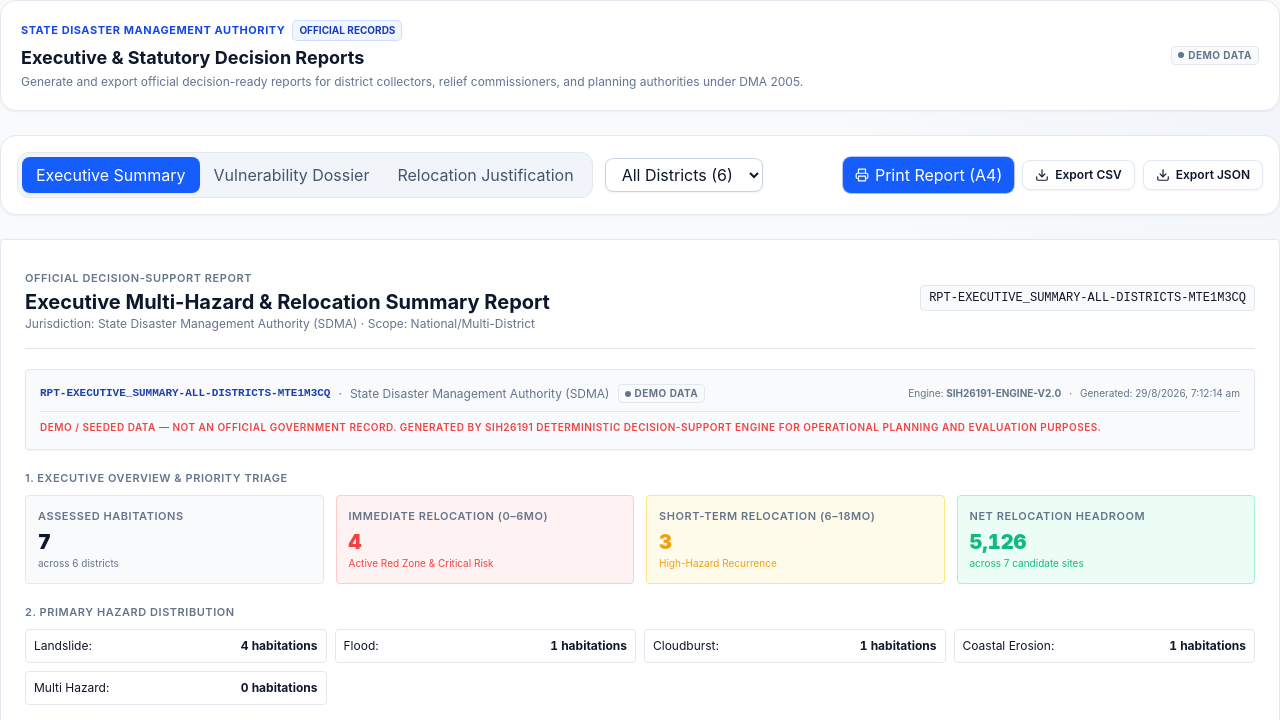
Test case: Reports UI Components (Phase 7) › renders ReportsWorkspace and coordinates report type switching
Expected: the button "Print Report (A4)" is shown, 843,157 -> 1014,193
Expected: the link "Export CSV" is shown, 1022,160 -> 1135,190
// Switch to Vulnerability Dossier
Click the button "Vulnerability Dossier" at (291, 175), box 200,157 -> 383,193
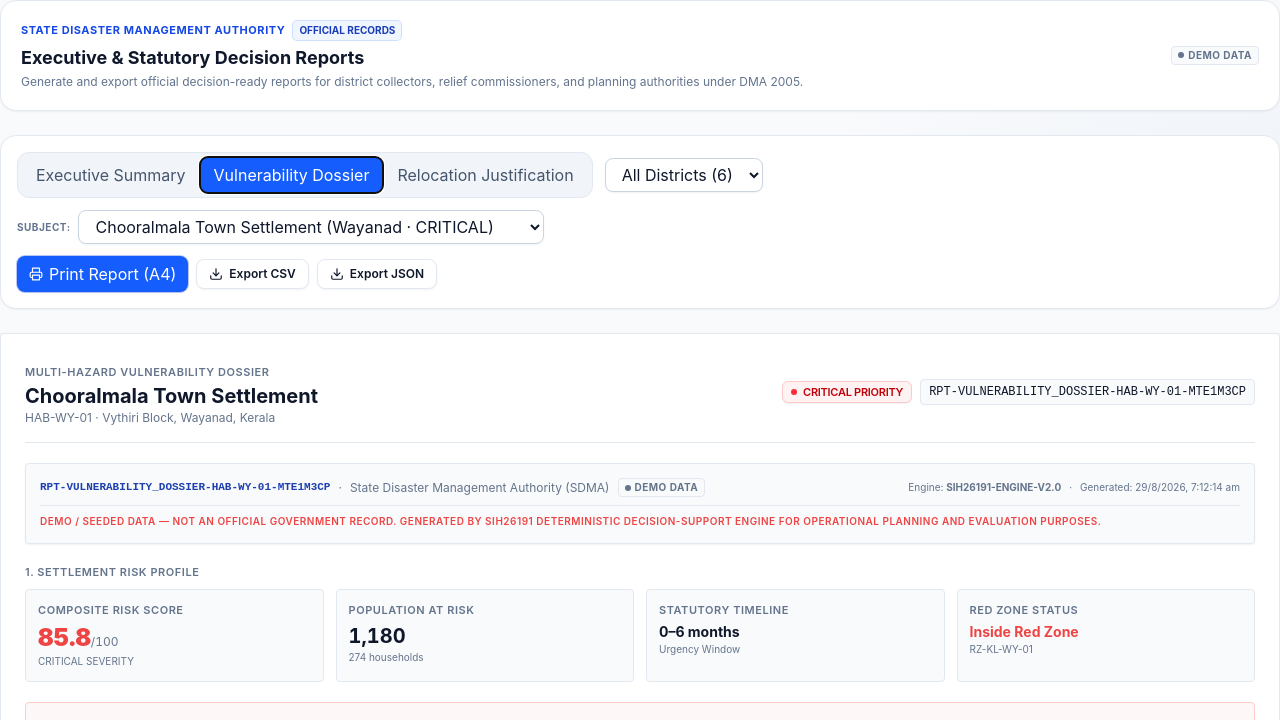
// Switch to Relocation Justification
Click the button "Relocation Justification" at (486, 175), box 383,157 -> 588,193
(page scrolled)
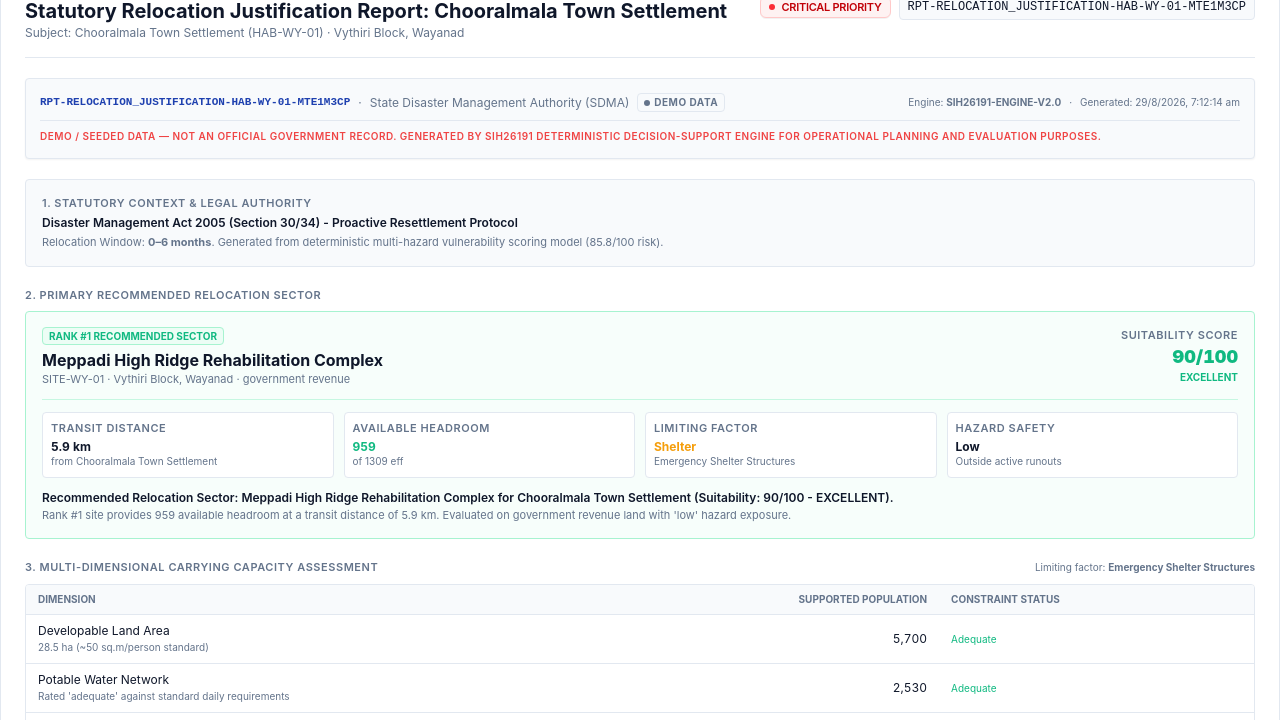
Now the heading "Meppadi High Ridge Rehabilitation Complex" is shown, box 42,348 -> 383,372
